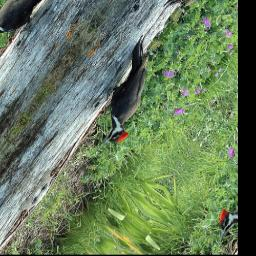Woodpecker: (76, 36, 181, 157)
